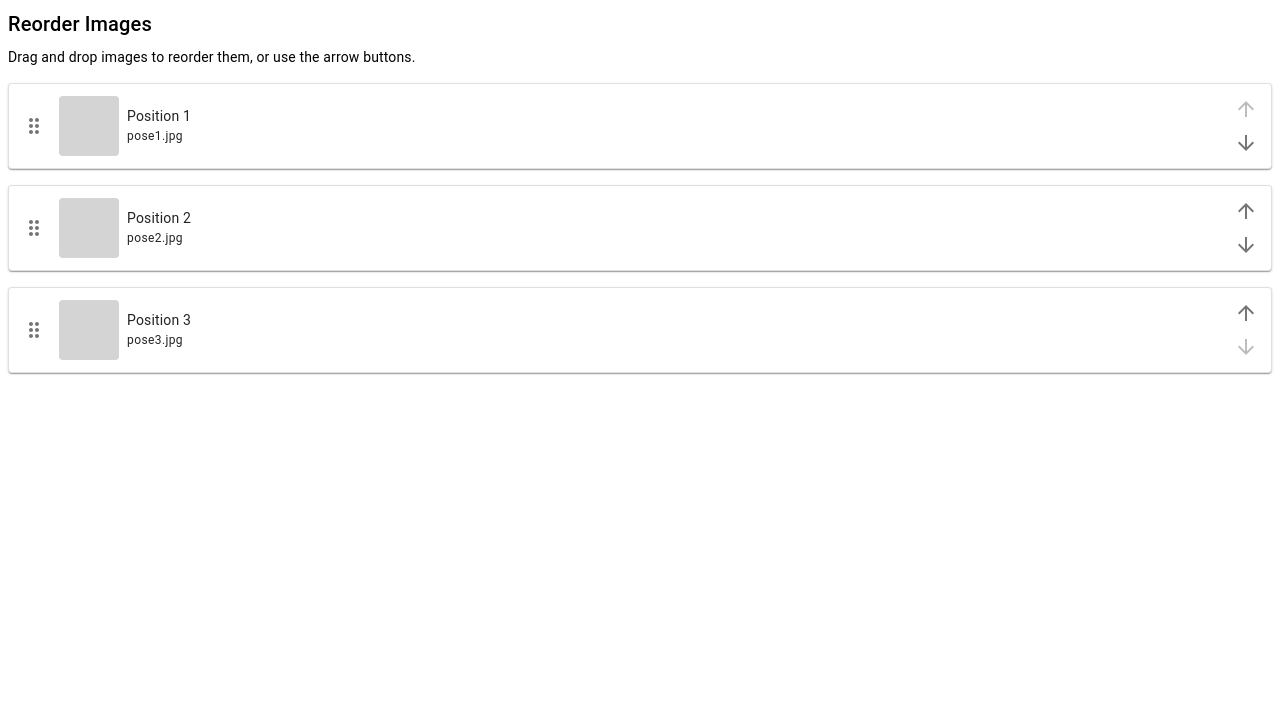
Test: ImageReorder › Save and Cancel Actions › should show success message after successful save
Note: Make a change and save
Click the 2nd button named "Move up".
click(1246, 211)  # box x1=1229 y1=194 x2=1263 y2=228
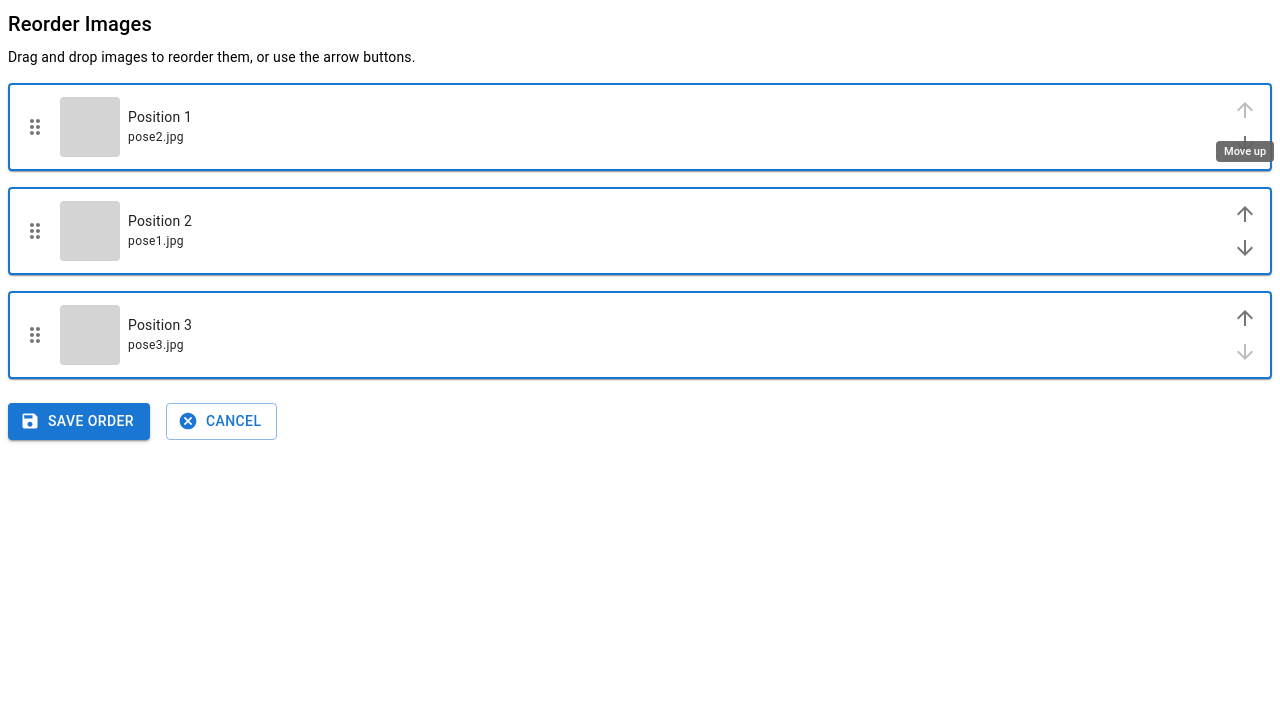
Click the button "Save Order".
click(79, 421)  # box x1=8 y1=403 x2=150 y2=440
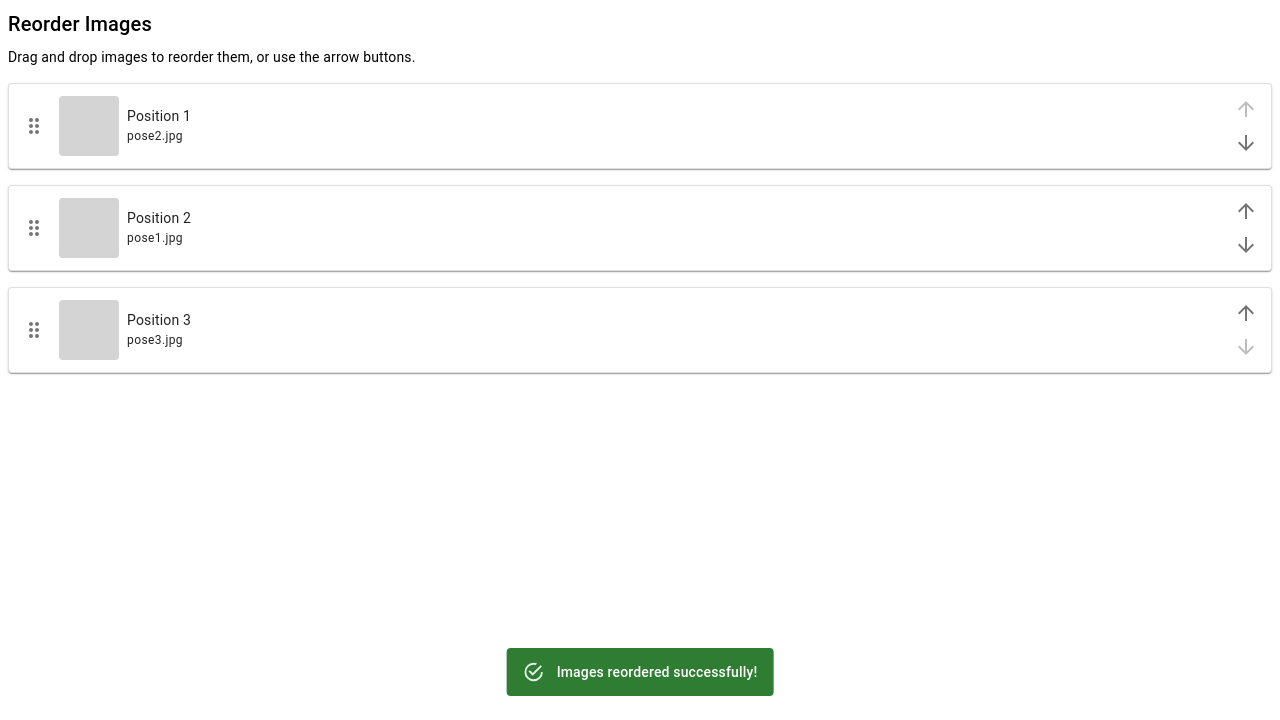
Expected: the text "Images reordered successfully!" is shown, x1=557 y1=664 x2=757 y2=680
